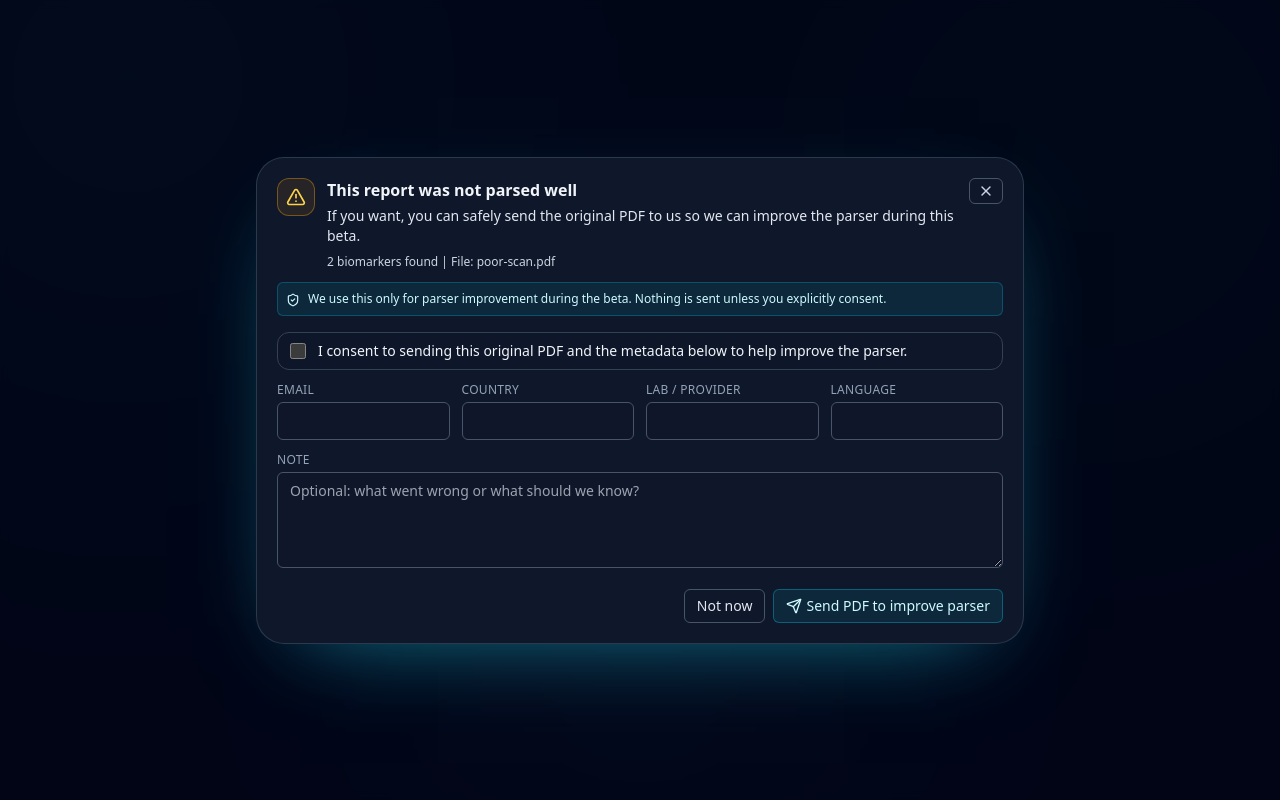
Test: ParserImprovementSubmissionCard › requires explicit consent before submitting
This screenshot has width=1280, height=800.
Click the button "Send PDF to improve parser".
click(888, 606)  # box [774, 588, 1003, 622]
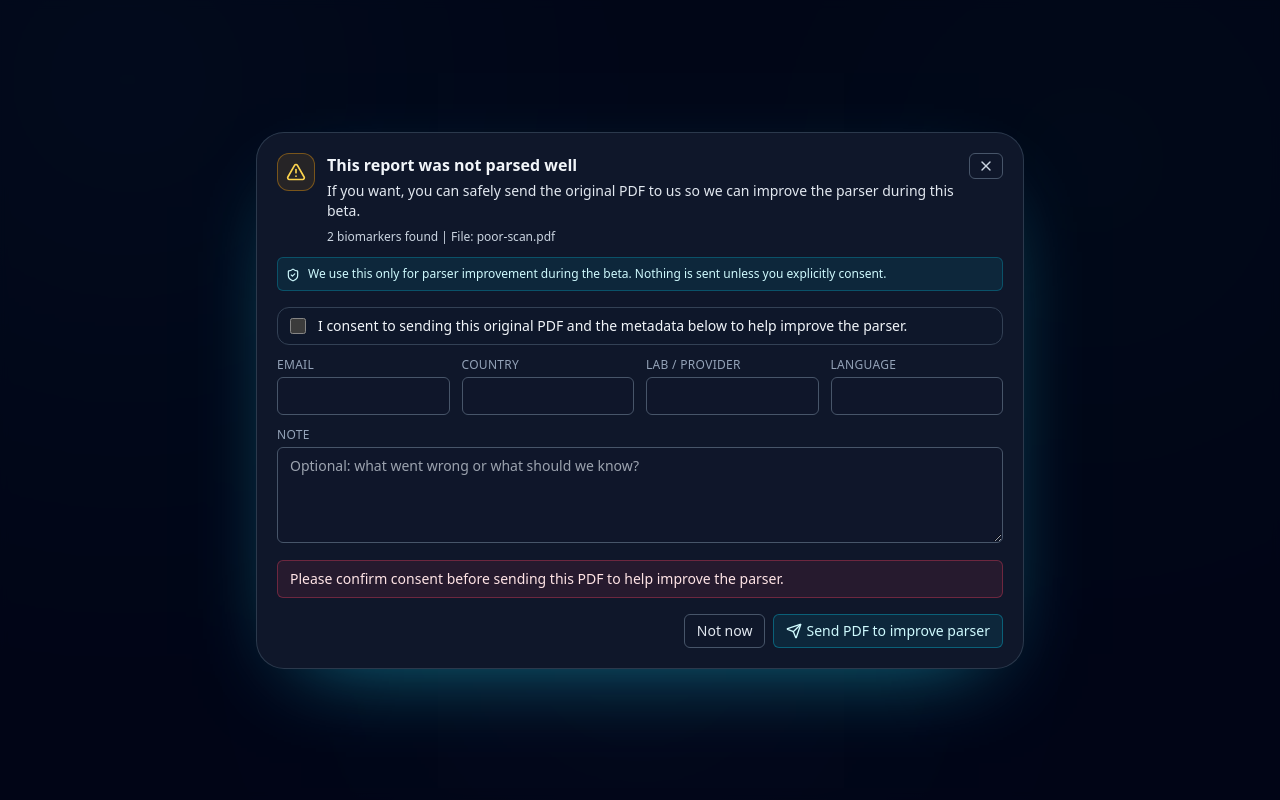
Expected: the message shows "confirm consent", [290, 568, 784, 588]
